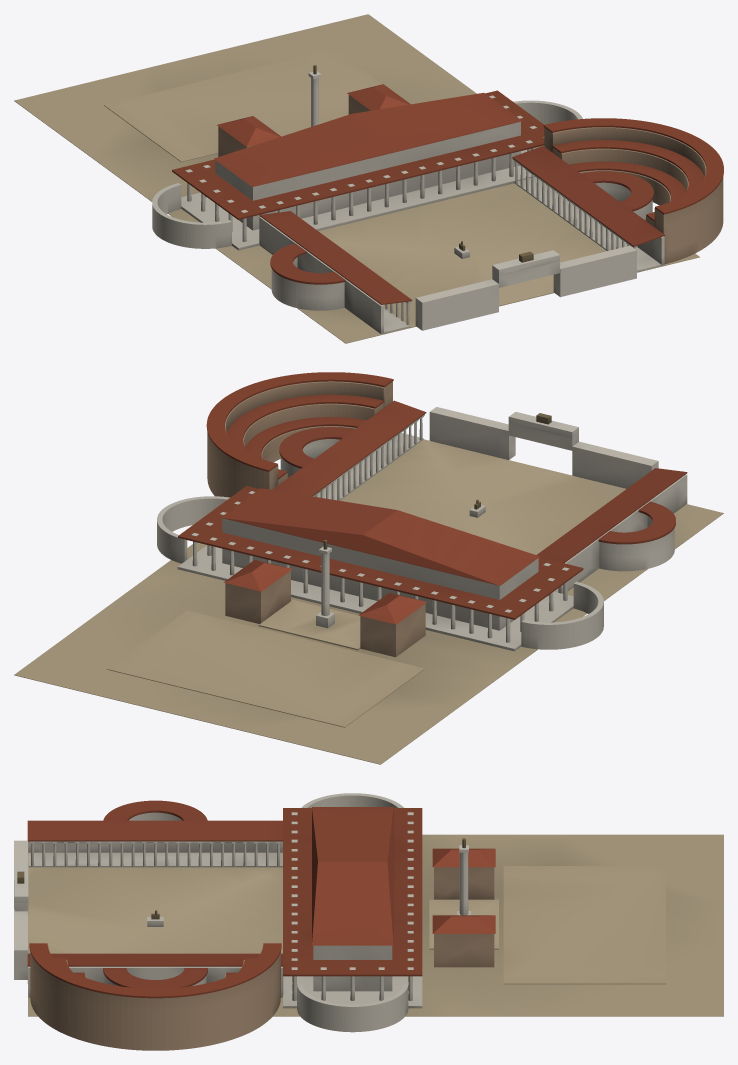
File: forum-of-trajan.glb
3 renders of one model, top to bottom at view 1: azimuth 30°, elevation 25°; view 2: azimuth 150°, elevation 25°; view 3: azimuth 270°, elevation 25°, orthographic. The views are drawn at different scales.
Parts seen in each view (by area): view 1: p1_markets, p0_plaza, p2_column; view 2: p1_markets, p0_plaza, p2_column; view 3: p1_markets, p0_plaza, p2_column.
Part boxes in pixels (x1,y1,x2,y2): p1_markets: [104, 49, 723, 334]; p0_plaza: [14, 14, 699, 343]; p2_column: [172, 65, 723, 304]; p1_markets: [107, 381, 687, 727]; p0_plaza: [14, 439, 723, 764]; p2_column: [178, 372, 687, 628]; p1_markets: [14, 793, 665, 1050]; p0_plaza: [27, 834, 723, 1016]; p2_column: [14, 800, 495, 998].
Bounding box in the file's own units: 237 × 41.3 × 306.
